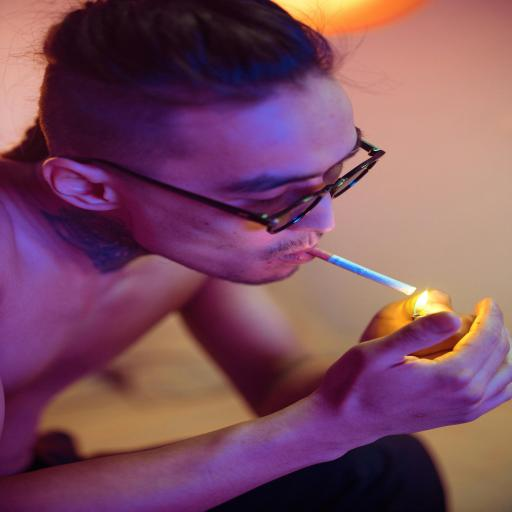terdeteksi merokok: (257, 156, 429, 326)
